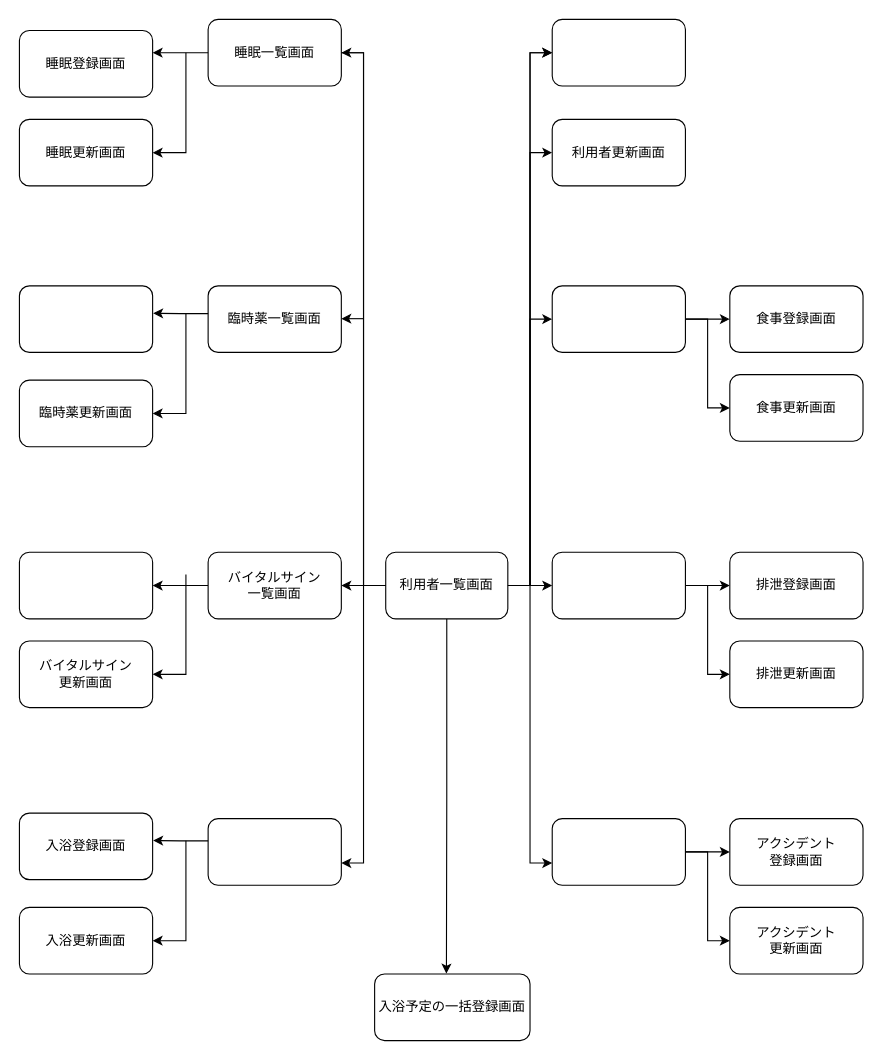
Image size: 882x1060. Some labels were removed from this diagram. Each missing label, with the centre of its shape:
"アクシデント 一覧画面" goes at pixel 618 851.
"バイタルサイン 登録画面" goes at pixel 85 585.
"入浴一覧画面" goes at pixel 274 851.
"利用者登録画面" goes at pixel 618 52.
"排泄一覧画面" goes at pixel 618 585.
"臨時薬登録画面" goes at pixel 85 318.
"食事一覧画面" goes at pixel 618 318.
